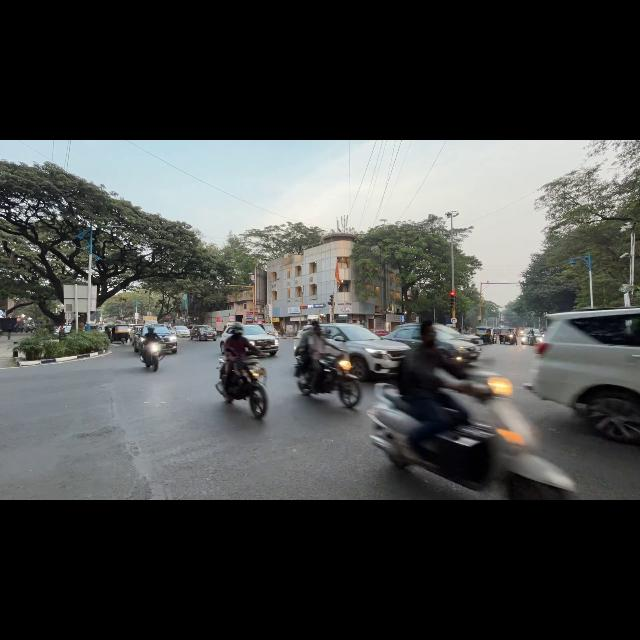car: (533, 307, 639, 443), (321, 323, 409, 380), (434, 326, 480, 362), (243, 325, 278, 355), (433, 324, 483, 344), (153, 325, 177, 353), (190, 325, 217, 340), (130, 325, 143, 345), (260, 324, 279, 337), (520, 328, 531, 344), (176, 326, 190, 337), (371, 329, 388, 336), (64, 326, 71, 333)
motorcycle: (368, 373, 575, 499), (296, 354, 361, 407), (226, 356, 267, 419), (141, 342, 164, 371), (527, 334, 535, 345)
